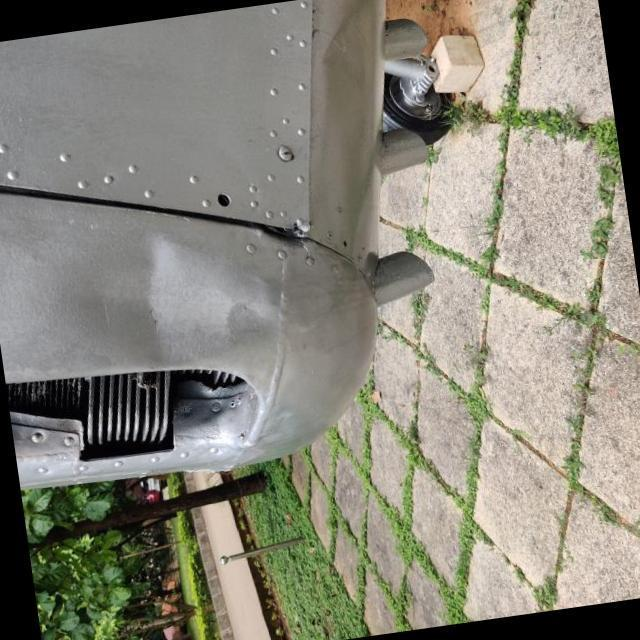Dent: (25, 194, 278, 394)
Fastener Damage: (202, 170, 256, 221)
